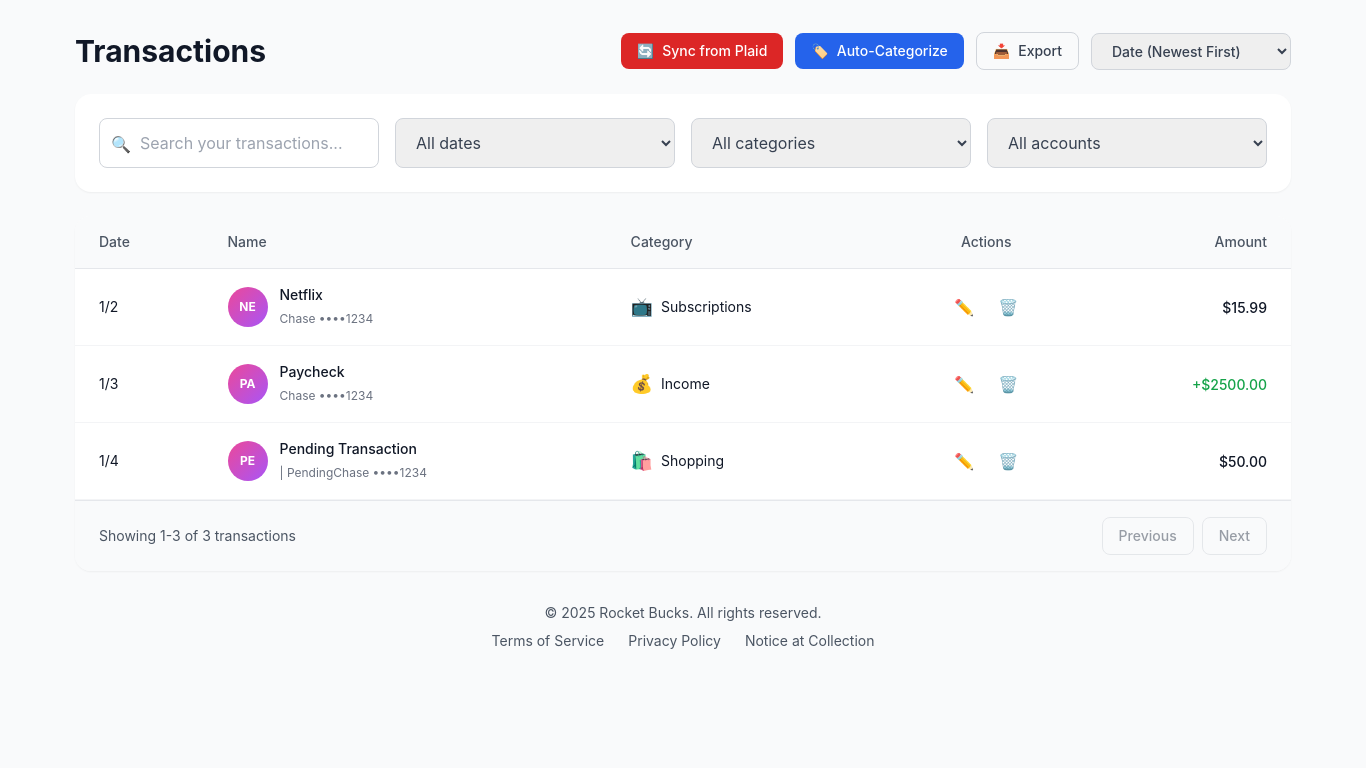
Test: Transactions page › dismisses sync error message
The image size is (1366, 768).
Expected: the text "Netflix" is shown, [280,286,323,303]
Click the button "🔄 Sync from Plaid".
click(702, 51)  # box [621,33,783,69]
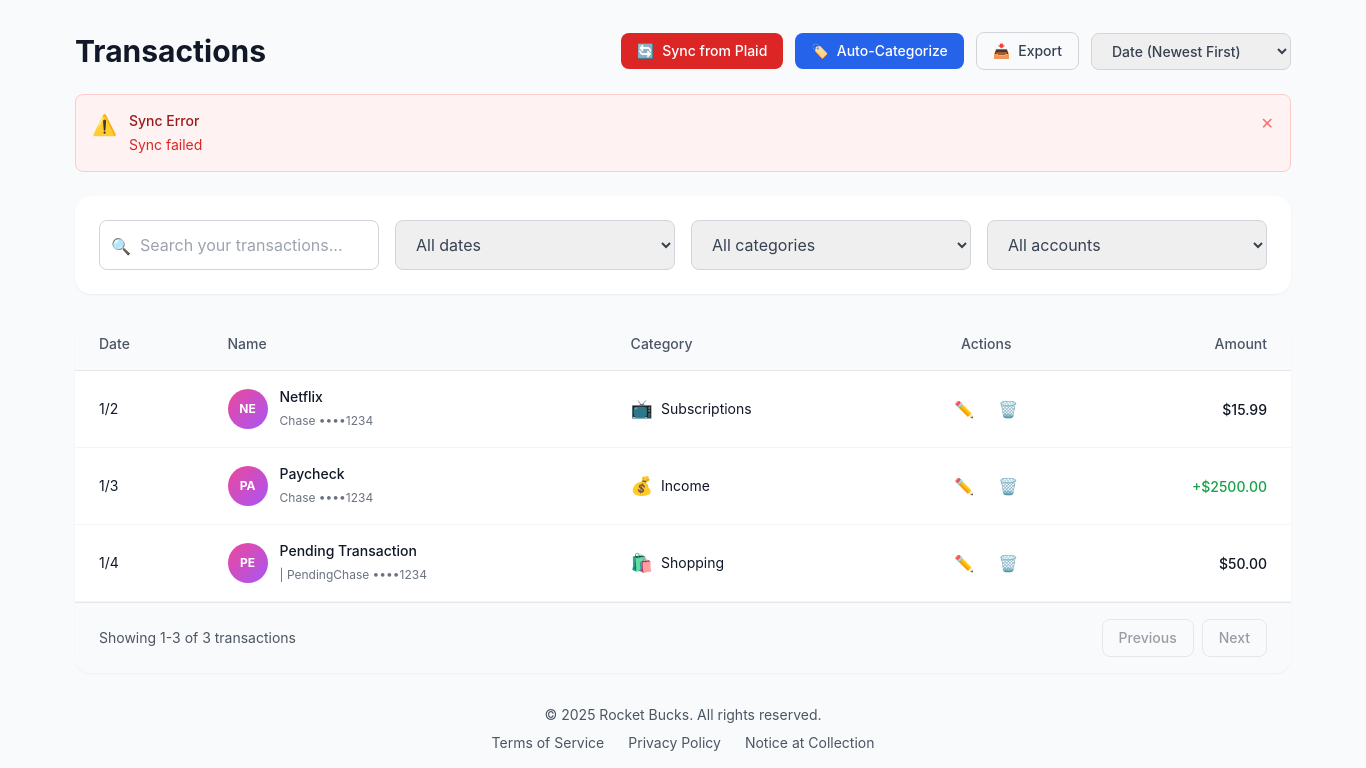
Expected: the heading "Sync Error" is shown, [129,112,199,129]
Click the button "✕".
click(1267, 123)  # box [1261,111,1274,135]
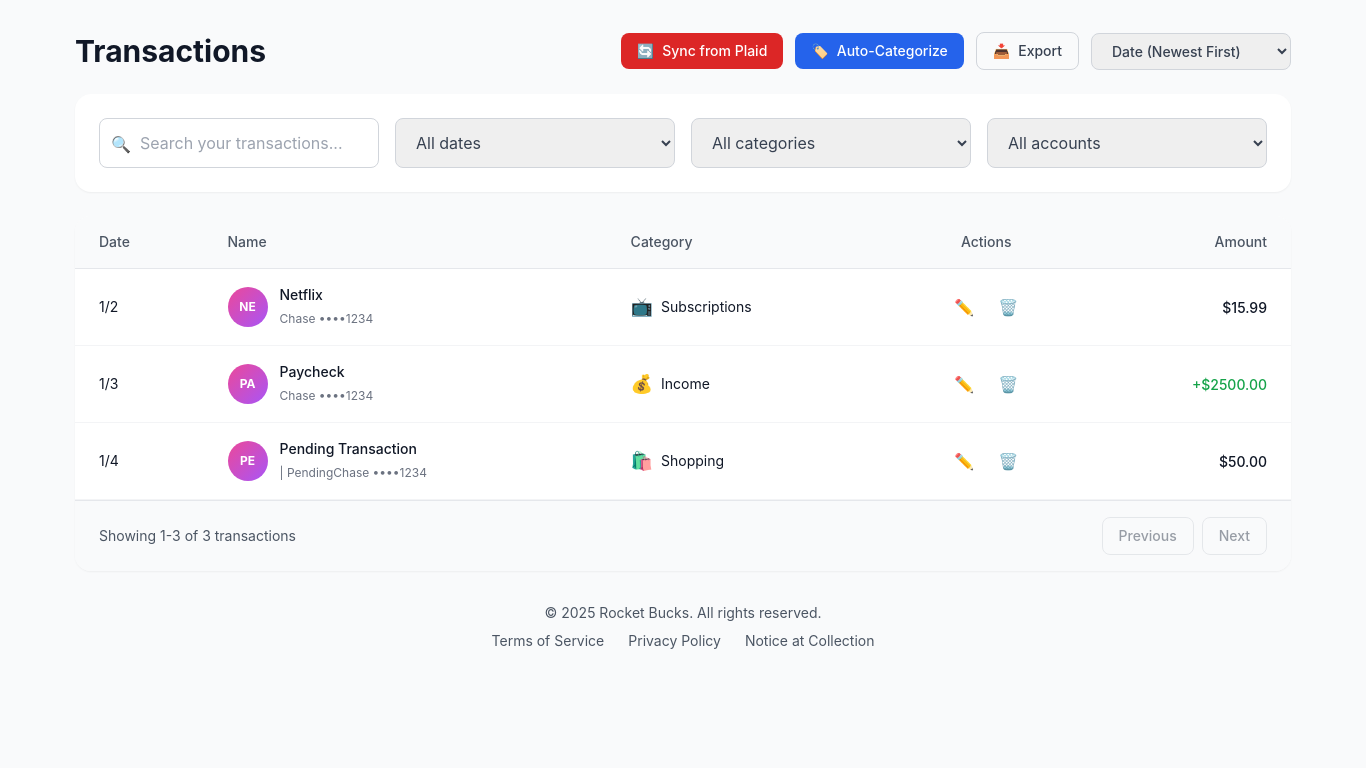
Expected: the heading "Sync Error" is gone
